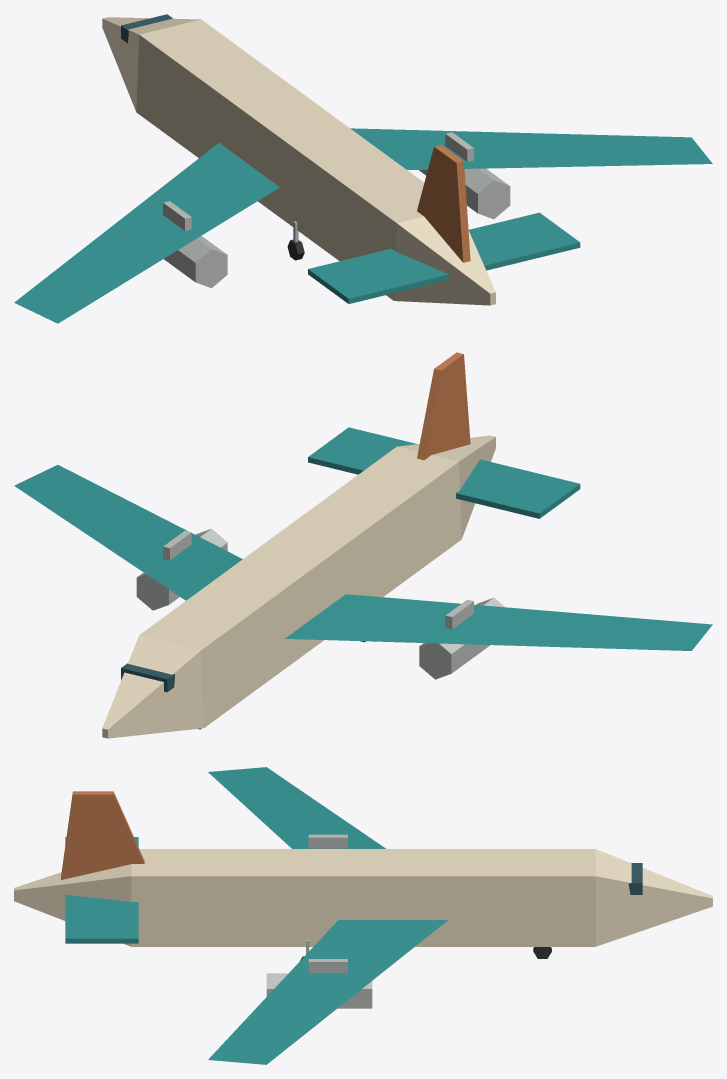
File: plane_far.glb
3 views of the same model, one above another, from view 1: azimuth 30°, elevation 25°; view 2: azimuth 150°, elevation 25°; view 3: azimuth 270°, elevation 25° (orthographic). The views are drawn at different scales.
Visible parts, largest first — view 1: Airliner fuselage, PlaneModel traffic_teal, PlaneModel traffic_metal, Vertical tail; view 2: Airliner fuselage, PlaneModel traffic_teal, PlaneModel traffic_metal, Vertical tail, Flight deck glass; view 3: Airliner fuselage, PlaneModel traffic_teal, Vertical tail, PlaneModel traffic_metal.
Part boxes in pixels (bbox=[...]): Airliner fuselage: bbox=[102, 17, 495, 305]; PlaneModel traffic_teal: bbox=[14, 128, 712, 323]; PlaneModel traffic_metal: bbox=[163, 132, 510, 288]; Vertical tail: bbox=[417, 144, 470, 262]; Airliner fuselage: bbox=[102, 435, 495, 738]; PlaneModel traffic_teal: bbox=[14, 427, 712, 650]; PlaneModel traffic_metal: bbox=[136, 528, 504, 679]; Vertical tail: bbox=[417, 352, 470, 460]; Flight deck glass: bbox=[121, 663, 174, 692]; Airliner fuselage: bbox=[14, 849, 712, 946]; PlaneModel traffic_teal: bbox=[65, 767, 447, 1064]; Vertical tail: bbox=[61, 791, 144, 879]; PlaneModel traffic_metal: bbox=[266, 834, 372, 1008].
Bounding box in the file's own units: 12 × 3.09 × 11.9.
